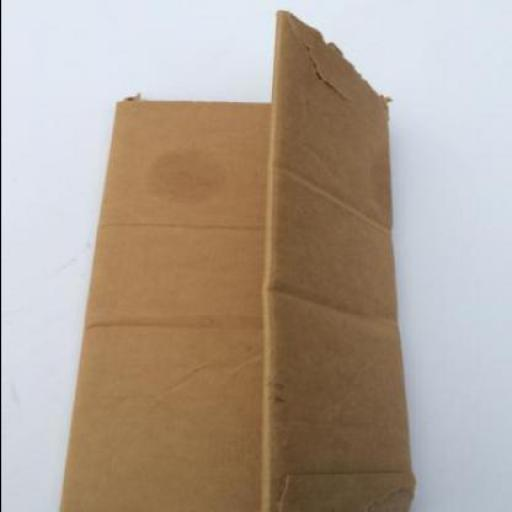cardboard: (56, 10, 412, 511), (262, 11, 412, 511)
